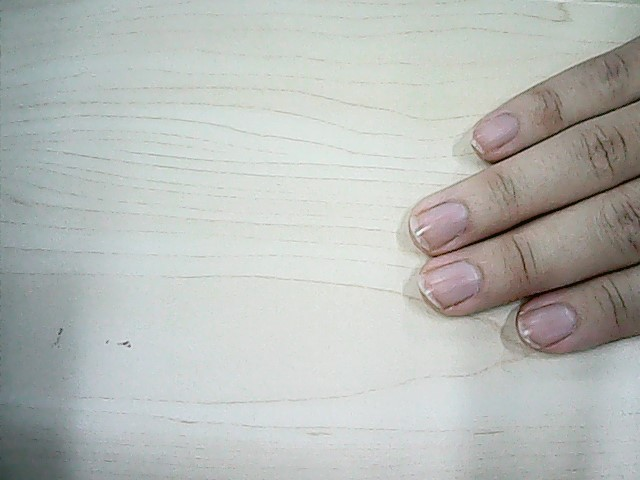nail: (406, 209, 467, 244), (514, 309, 575, 344), (419, 268, 475, 303), (476, 117, 515, 141)
